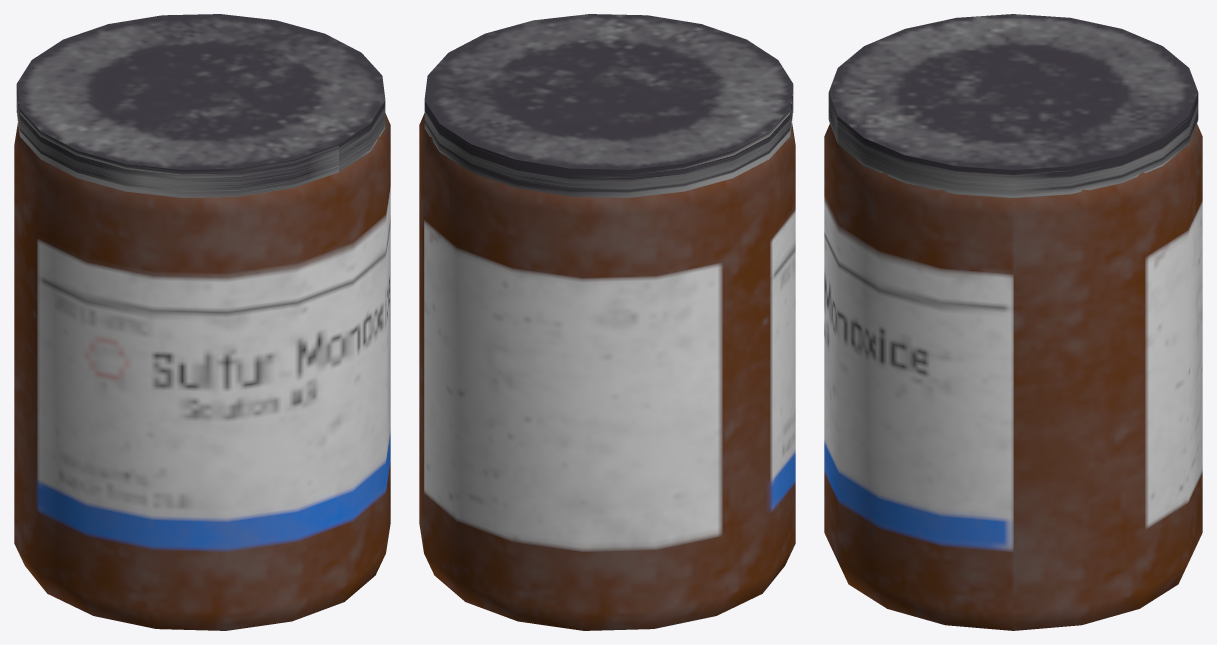
The model's file is SM_Bottle_4.fbx.
3 renders of one model, left to right at view 1: azimuth 30°, elevation 25°; view 2: azimuth 150°, elevation 25°; view 3: azimuth 270°, elevation 25°, orthographic.
Parts seen in each view (by area): view 1: SM_Bottle_4_LOD0; view 2: SM_Bottle_4_LOD0; view 3: SM_Bottle_4_LOD0.
Boxes of the visible parts, bbox=[...] form: SM_Bottle_4_LOD0: bbox=[14, 14, 390, 630]; SM_Bottle_4_LOD0: bbox=[419, 14, 795, 630]; SM_Bottle_4_LOD0: bbox=[824, 14, 1202, 630].
Bounding box in the file's own units: 6.19 × 6.19 × 8.53.
1 material, 1 textured.
